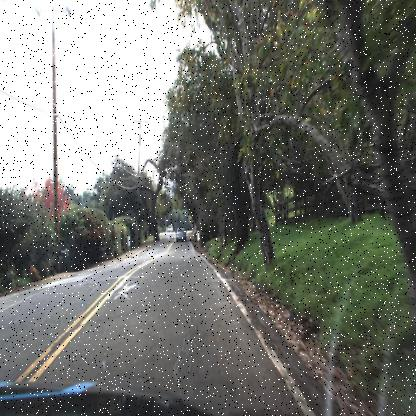car: (173, 224, 189, 245), (167, 222, 175, 236)
